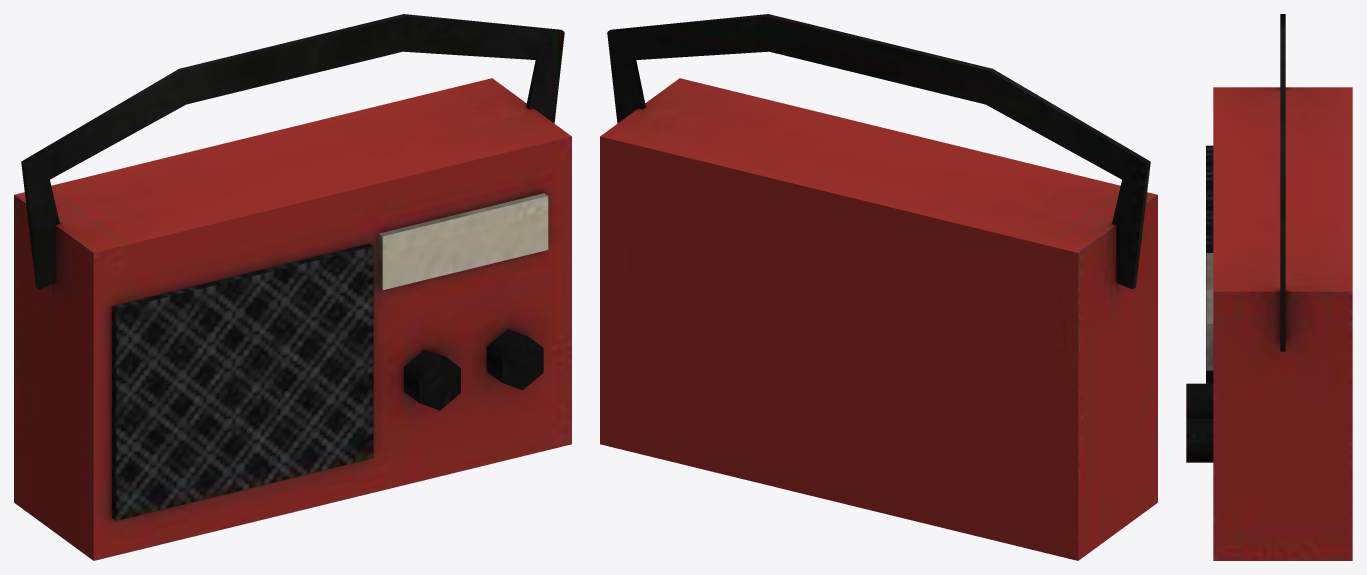
Rendered from radio_lod1_web.glb.
3 renders of one model, left to right at view 1: azimuth 30°, elevation 25°; view 2: azimuth 150°, elevation 25°; view 3: azimuth 270°, elevation 25°, orthographic. The views are drawn at different scales.
Visible parts, largest first — view 1: Radio_Body; view 2: Radio_Body; view 3: Radio_Body.
Part boxes in pixels (x1=…): Radio_Body: x1=14, y1=14, x2=571, y2=560; Radio_Body: x1=600, y1=14, x2=1157, y2=560; Radio_Body: x1=1186, y1=14, x2=1352, y2=560.
Size of the model in its own units: 0.2939 by 0.2239 by 0.0895.
1 material, 1 textured.
